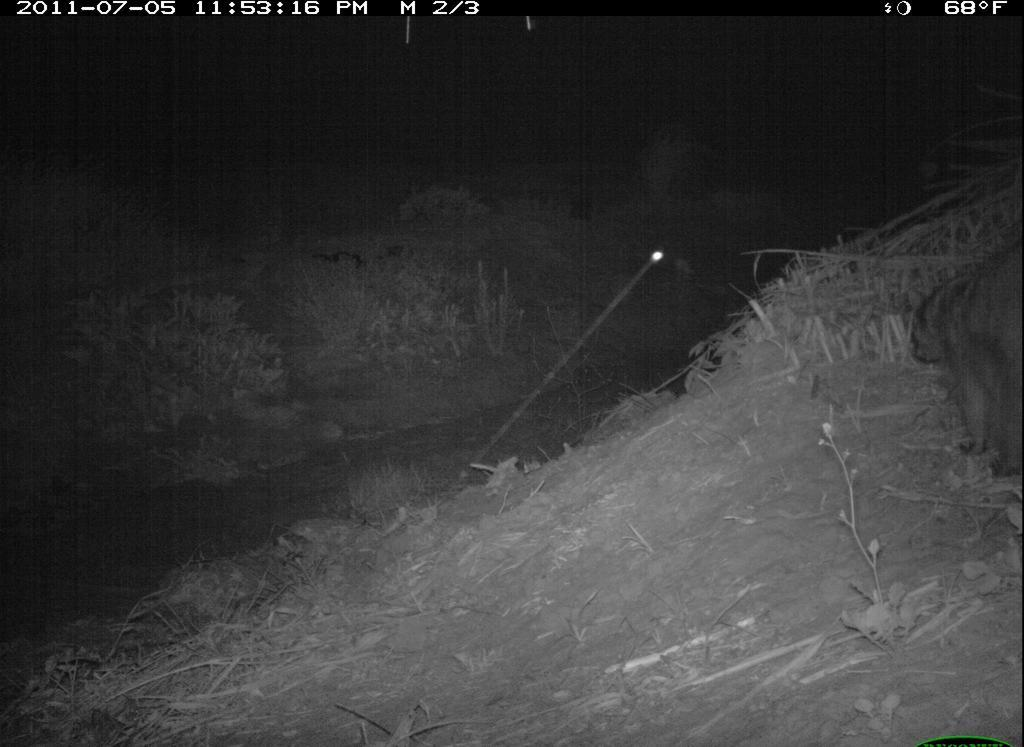raccoon: (900, 231, 1023, 487)
